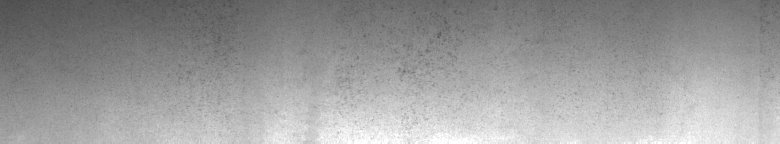ib: (397, 6, 497, 124)
